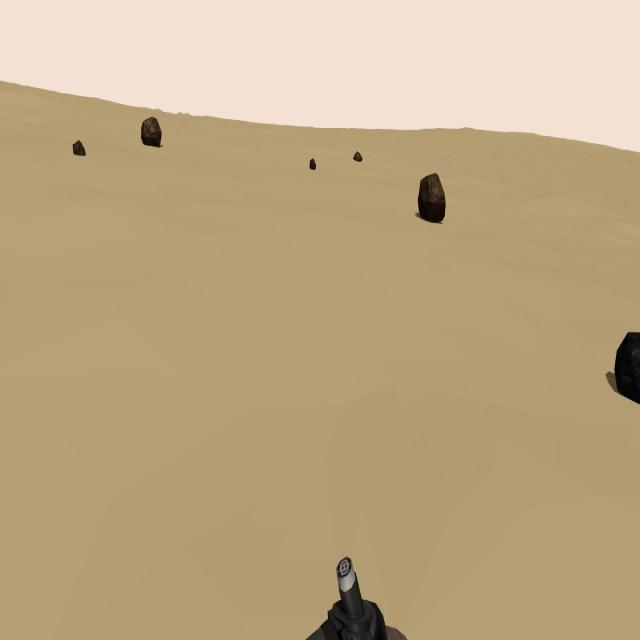rock: (614, 332, 640, 403), (418, 173, 446, 224), (142, 117, 161, 147), (72, 140, 86, 157), (353, 152, 361, 162), (310, 156, 316, 169)
